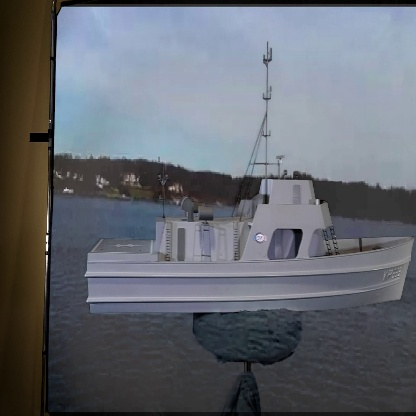YP689: (85, 40, 415, 316)
